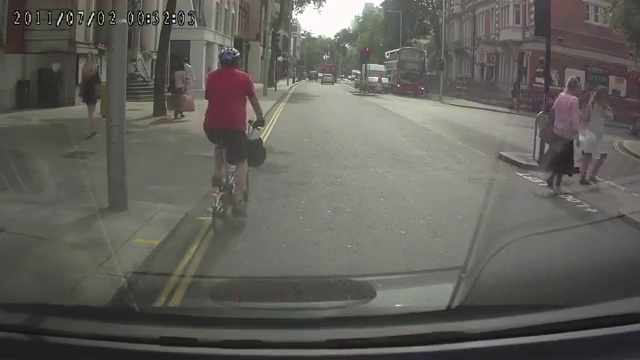cyclist_back: (198, 46, 267, 238)
